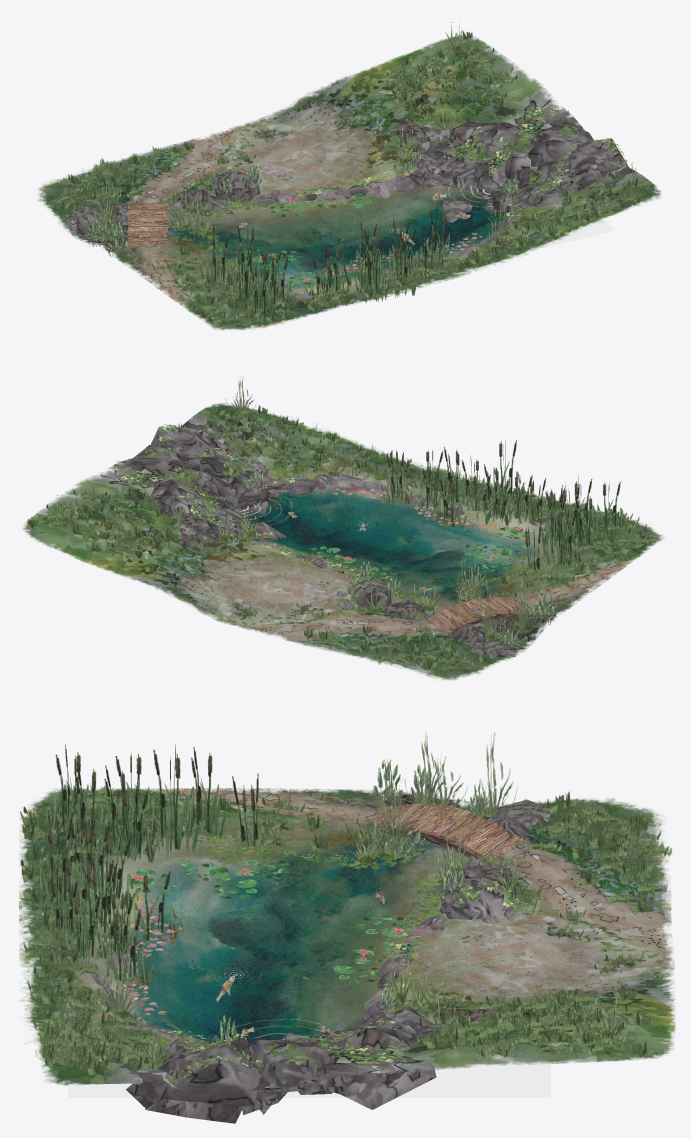
File: pond_with_waterfalls.glb
3 renders of one model, top to bottom at view 1: azimuth 30°, elevation 25°; view 2: azimuth 150°, elevation 25°; view 3: azimuth 270°, elevation 25°, orthographic. The views are drawn at different scales.
Parts seen in each view (by area): view 1: Plane.002, Icosphere.004, Icosphere.005, Icosphere.010, Icosphere.012, Icosphere.018, Icosphere.001, Icosphere.011, Plane.056, Icosphere.024, Plane.084, Icosphere (+16 smaller); view 2: Plane.002, Icosphere.004, Icosphere.012, Icosphere.010, Icosphere.005, Icosphere.001, Icosphere.018, Plane.084, Plane.059, Plane.037, Plane.085, Plane.056 (+15 smaller); view 3: Plane.002, Icosphere.012, Icosphere.010, Icosphere.004, Icosphere.018, Plane.084, Plane.056, Plane.085, Plane.083, Plane.059, Plane.090, Plane.036 (+31 smaller).
Part boxes in pixels (box(x1,y1,x2,y2)): Plane.002: box(38, 34, 660, 330); Icosphere.004: box(511, 127, 593, 166); Icosphere.005: box(432, 146, 497, 189); Icosphere.010: box(465, 121, 525, 162); Icosphere.012: box(564, 138, 629, 173); Icosphere.018: box(212, 171, 259, 203); Icosphere.001: box(511, 182, 567, 208); Icosphere.011: box(559, 163, 611, 194); Plane.056: box(357, 228, 390, 302); Icosphere.024: box(174, 187, 232, 216); Plane.084: box(229, 225, 267, 292); Icosphere: box(475, 156, 506, 191); Plane.002: box(22, 403, 664, 680); Icosphere.004: box(131, 445, 202, 491); Icosphere.012: box(150, 426, 214, 456); Icosphere.010: box(150, 480, 203, 513); Icosphere.005: box(195, 498, 242, 534); Icosphere.001: box(228, 454, 268, 495); Icosphere.018: box(347, 580, 391, 607); Plane.084: box(541, 485, 569, 557); Plane.059: box(380, 450, 412, 507); Plane.037: box(436, 447, 471, 507); Plane.085: box(544, 511, 584, 568); Plane.056: box(485, 440, 525, 501); Plane.002: box(19, 788, 676, 1090); Icosphere.012: box(145, 1043, 261, 1123); Icosphere.010: box(327, 1025, 436, 1109); Icosphere.004: box(251, 1039, 359, 1093); Icosphere.018: box(440, 874, 511, 919); Plane.084: box(142, 744, 202, 859); Plane.056: box(27, 810, 85, 918); Plane.085: box(181, 747, 229, 839); Plane.083: box(102, 782, 160, 865); Plane.059: box(94, 900, 155, 991); Plane.090: box(43, 744, 100, 830); Plane.036: box(82, 831, 139, 916).
Bounding box in the file's own units: 1821 × 439 × 1462.
Materials: 4 (3 with a texture image).
